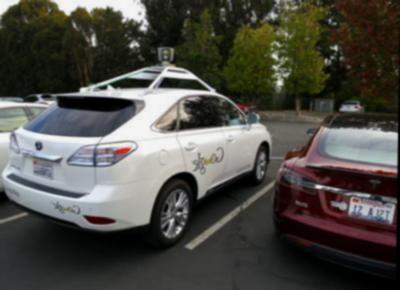License_Plate: (353, 204, 395, 219), (33, 167, 54, 176)
